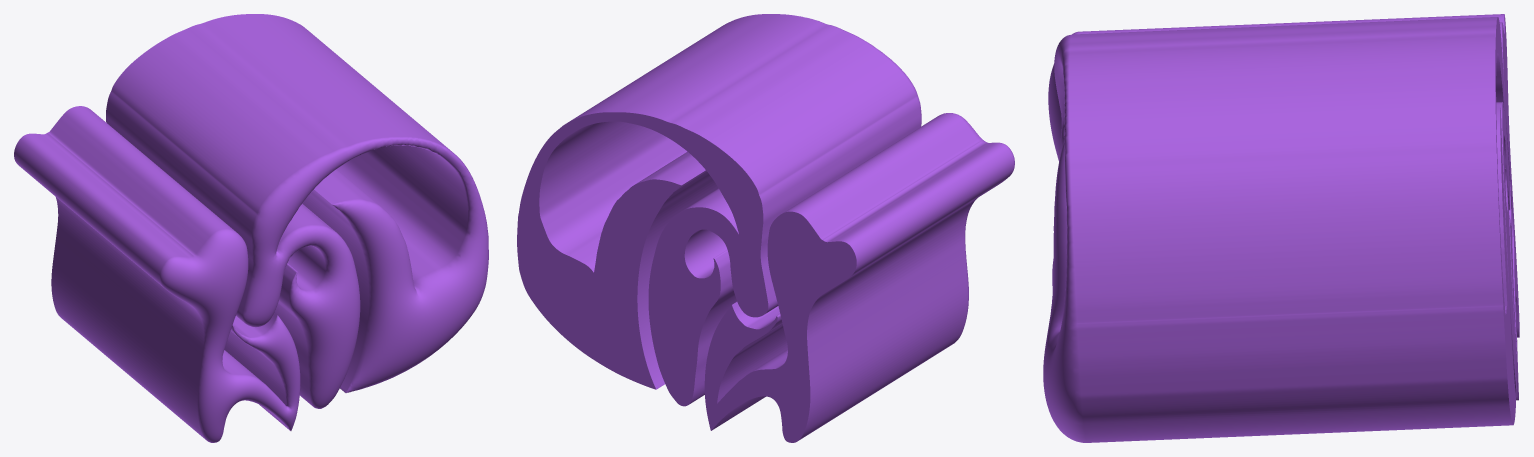
Rendered from lsdtitle.glb.
3 views of the same model, side by side, from view 1: azimuth 30°, elevation 25°; view 2: azimuth 150°, elevation 25°; view 3: azimuth 270°, elevation 25° (orthographic). The views are drawn at different scales.
Parts seen in each view (by area): view 1: Asset 1; view 2: Asset 1; view 3: Asset 1.
Part boxes in pixels (x1,y1,x2,y2): Asset 1: (14, 14, 488, 442); Asset 1: (517, 14, 1014, 442); Asset 1: (1043, 14, 1519, 442).
Bounding box in the file's own units: 16.93 × 14.44 × 14.77.
